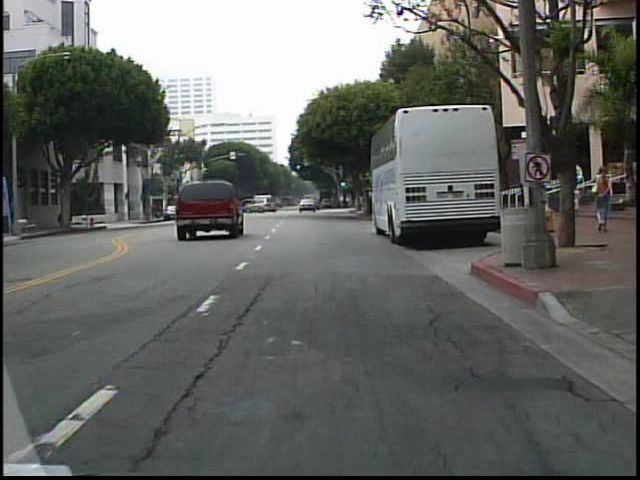person: (588, 165, 617, 238)
